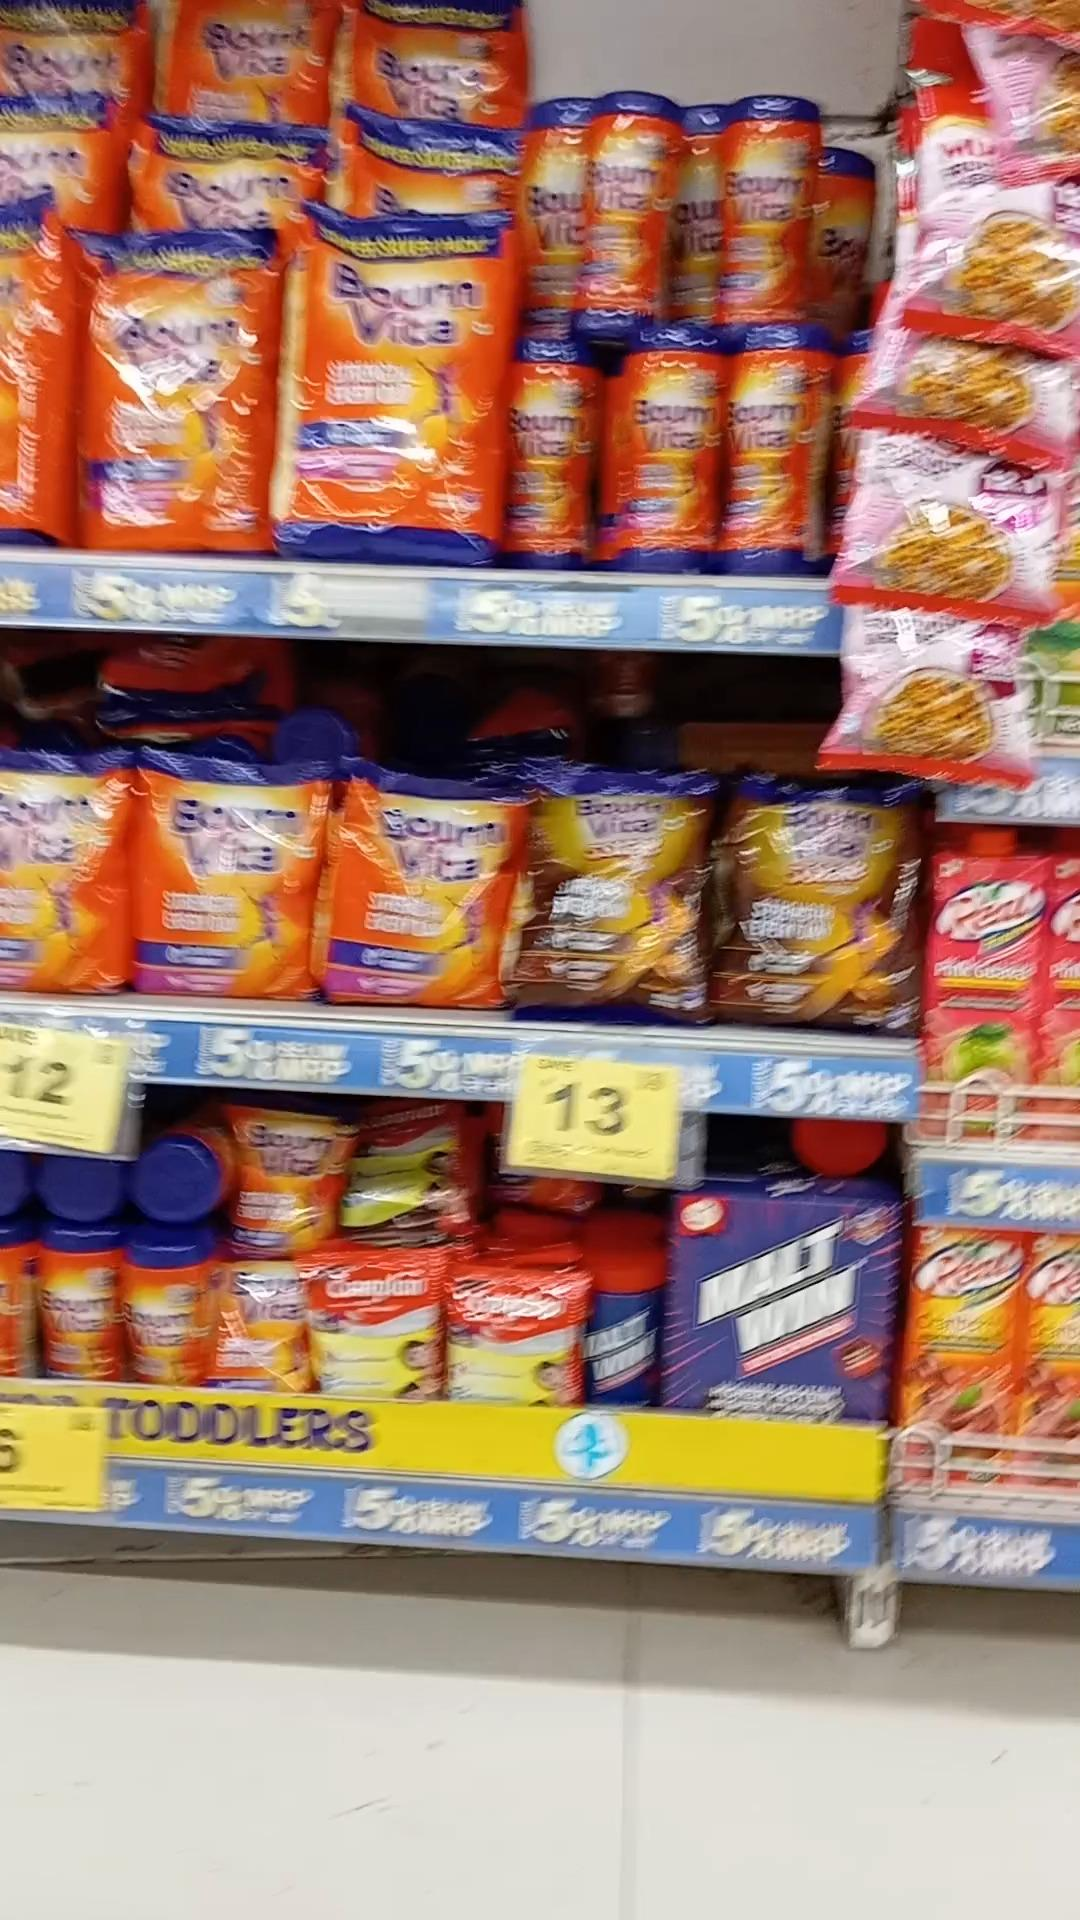BOURN_VITA_1_KG_POUCH: (293, 207, 500, 568), (80, 225, 277, 556)
BOURN_VITA_200_G_JAR: (124, 1222, 206, 1385), (42, 1222, 111, 1365)
BOURN_VITA_500_G_JAR: (613, 324, 720, 574), (578, 94, 687, 320), (729, 322, 825, 575), (715, 98, 814, 313), (508, 340, 589, 568)
BOURN_VITA_500_G_POUCH: (131, 750, 316, 1002), (330, 766, 512, 1010)
BOURN_VITA_75_G_POUCH: (227, 1108, 340, 1247), (212, 1261, 309, 1391)
BOURN_VITA_FIVE_STAR_MAGIC_500_G_POUCH: (716, 769, 920, 1035), (525, 761, 711, 1023)
